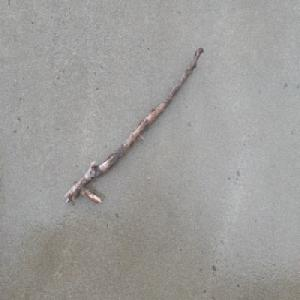Wood: (63, 44, 206, 205)
